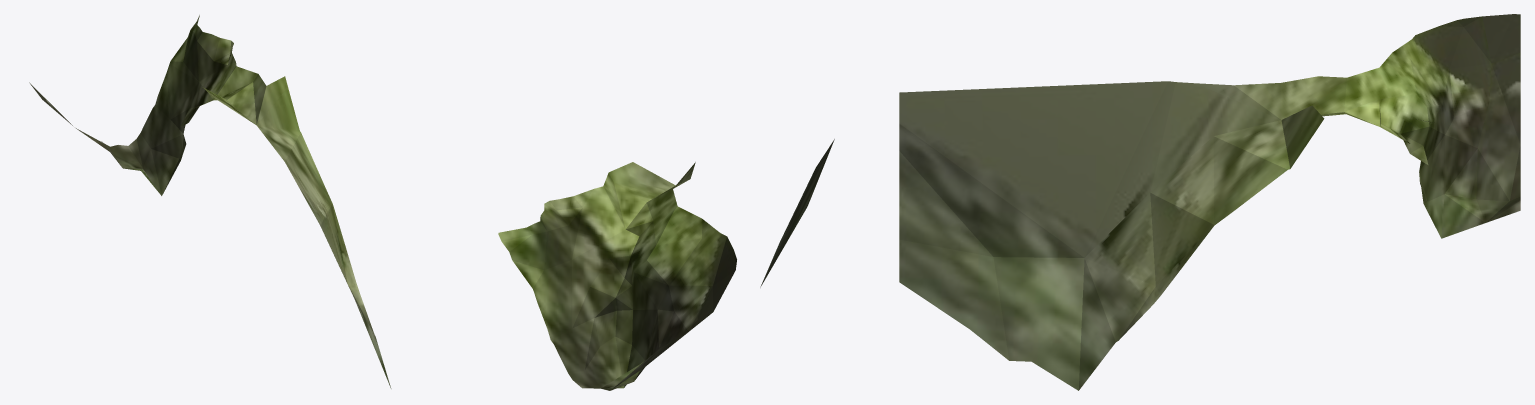
3 renders of one model, left to right at view 1: azimuth 30°, elevation 25°; view 2: azimuth 150°, elevation 25°; view 3: azimuth 270°, elevation 25°, orthographic. The views are drawn at different scales.
Bounding box in the file's own units: 1.18 × 1.43 × 2.95.
1 material, 1 textured.
